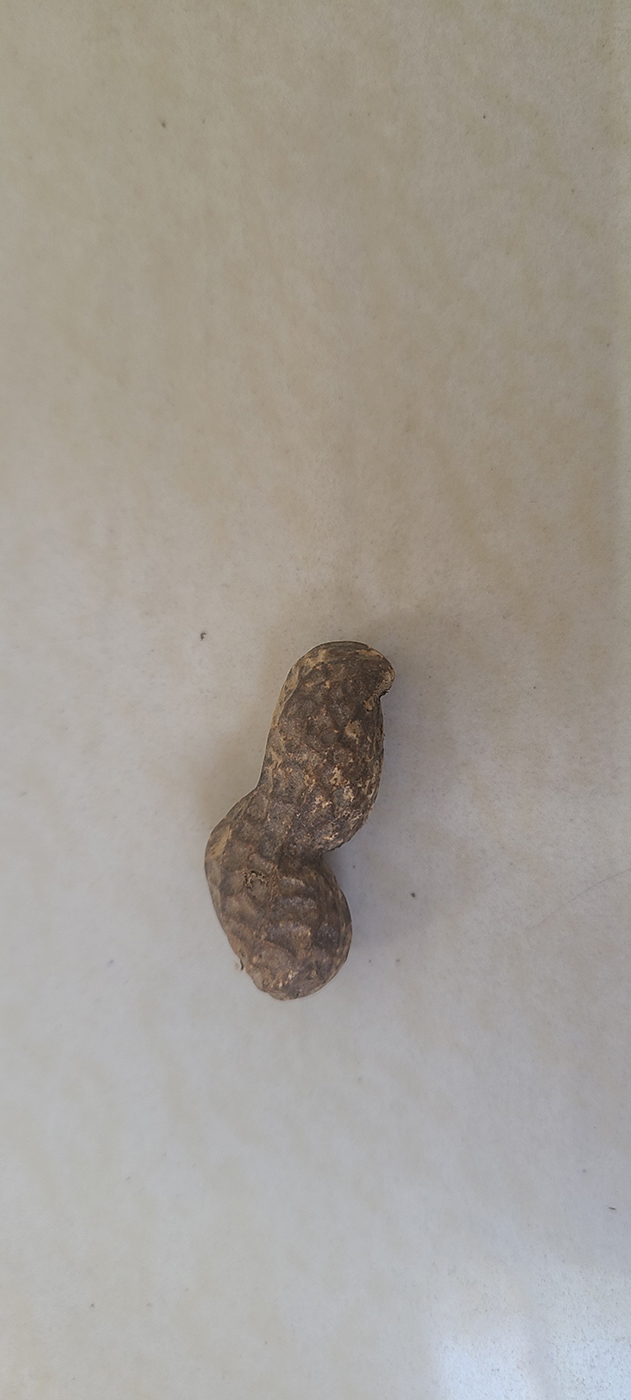l: (199, 638, 398, 1002)
